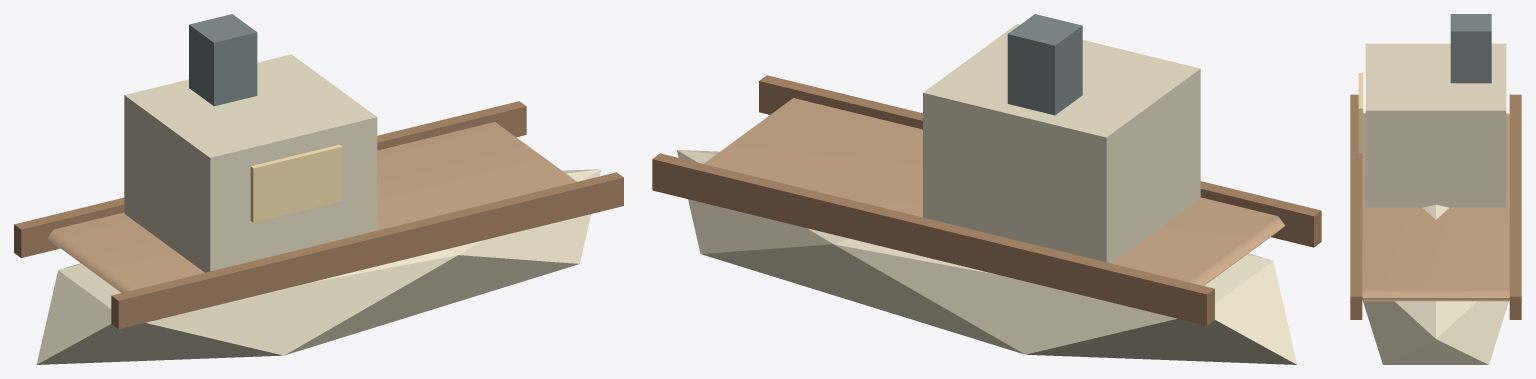
File: fishing-boat.glb
3 views of the same model, side by side, from view 1: azimuth 30°, elevation 25°; view 2: azimuth 150°, elevation 25°; view 3: azimuth 270°, elevation 25° (orthographic). The views are drawn at different scales.
Visible parts, largest first — view 1: Wheelhouse, Faceted boat hull, Boat deck, Gunwale, Funnel, Wheelhouse pane, Gunwale.001; view 2: Wheelhouse, Faceted boat hull, Boat deck, Gunwale.001, Funnel, Gunwale; view 3: Wheelhouse, Boat deck, Faceted boat hull, Funnel, Gunwale.001, Gunwale, Wheelhouse pane.
Boxes of the visible parts, box(x1,y1,x2,y2) form: Wheelhouse: box(124, 54, 377, 272); Faceted boat hull: box(36, 169, 601, 364); Boat deck: box(47, 122, 576, 292); Gunwale: box(111, 172, 623, 329); Funnel: box(189, 14, 257, 106); Wheelhouse pane: box(250, 144, 342, 222); Gunwale.001: box(14, 101, 526, 257); Wheelhouse: box(923, 24, 1200, 263); Faceted boat hull: box(677, 150, 1296, 364); Boat deck: box(703, 98, 1285, 285); Gunwale.001: box(652, 153, 1214, 325); Funnel: box(1007, 14, 1082, 115); Gunwale: box(759, 75, 1321, 247); Wheelhouse: box(1365, 43, 1506, 207); Boat deck: box(1362, 113, 1509, 301); Faceted boat hull: box(1363, 204, 1508, 364); Funnel: box(1450, 14, 1491, 83); Gunwale.001: box(1509, 94, 1521, 319); Gunwale: box(1350, 94, 1362, 319); Wheelhouse pane: box(1358, 73, 1363, 153).
Bounding box in the file's own units: 4.56 × 2.36 × 1.46.
